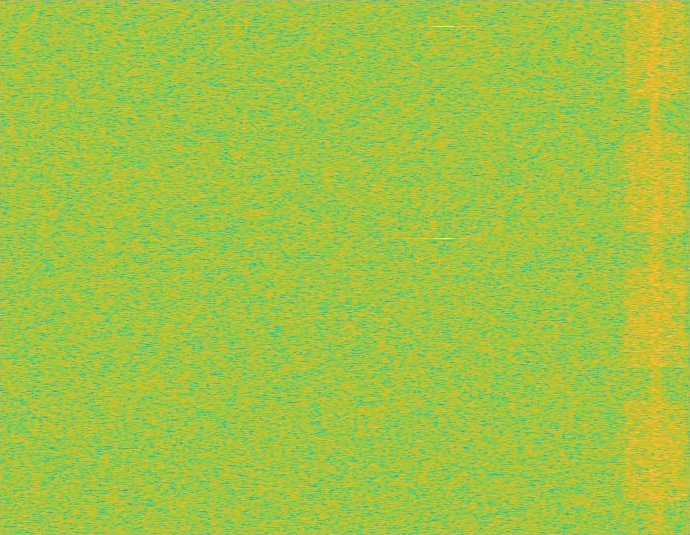5G: (621, 0, 689, 534)
DSSS: (648, 0, 663, 534)
Radar: (437, 0, 450, 534)
